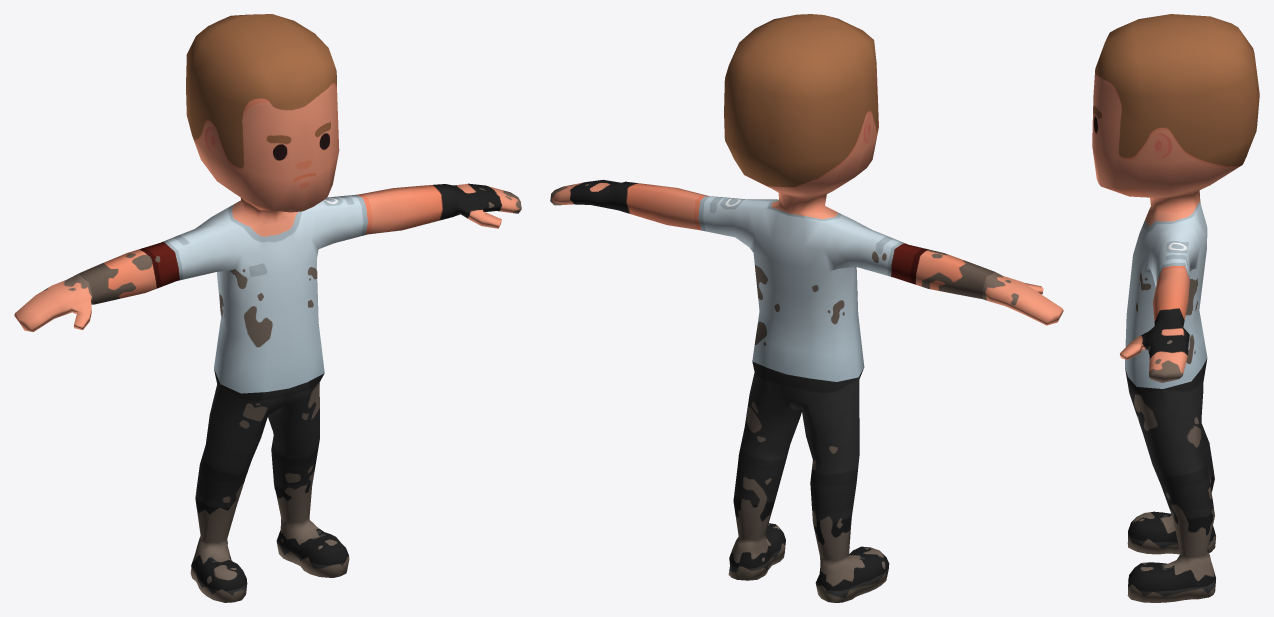
File: oziisan.fbx
The picture shows the model from 3 angles, left to right: view 1: azimuth 30°, elevation 25°; view 2: azimuth 150°, elevation 25°; view 3: azimuth 270°, elevation 25°; orthographic projection.
Visible parts, largest first — view 1: characterMedium; view 2: characterMedium; view 3: characterMedium.
Part boxes in pixels (box(x1,y1,x2,y2)): characterMedium: box(14, 14, 521, 602); characterMedium: box(550, 14, 1063, 602); characterMedium: box(1092, 14, 1259, 602).
Size of the model in its own units: 3.62 by 3.76 by 1.05.
Materials: 1 (1 with a texture image).
